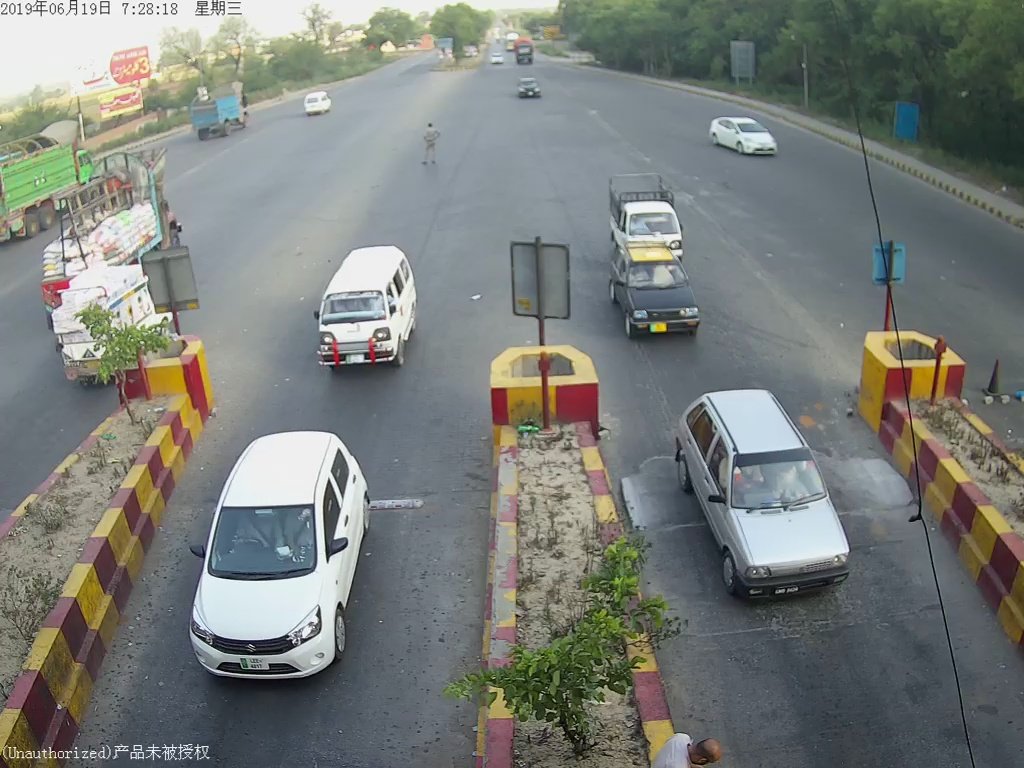Cat-1: (190, 421, 402, 702), (672, 383, 869, 605), (309, 236, 427, 381), (602, 245, 715, 352)
